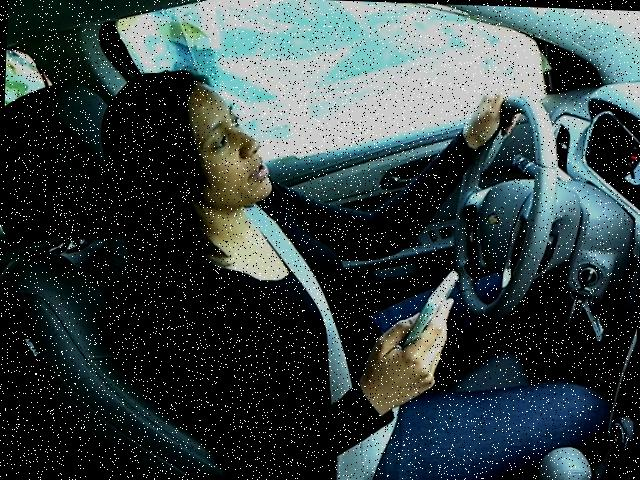c1 - Texting: (86, 63, 558, 474)
